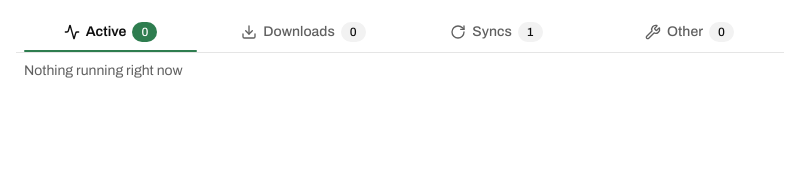
Test: TasksView › disables Run now while the sync is in progress
The width and height of the screenshot is (801, 172).
Click the tab "Syncs 1" at (496, 32), box [402,12,591,52]
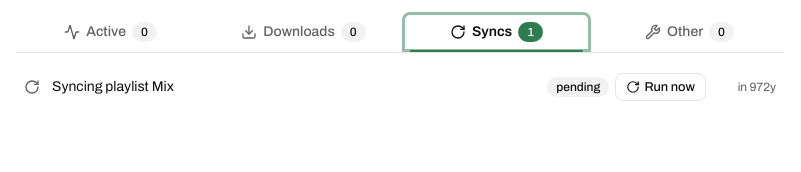
Click the button with aria-label "Run now: Syncing playlist Mix" at (661, 87), box [615,73,706,101]
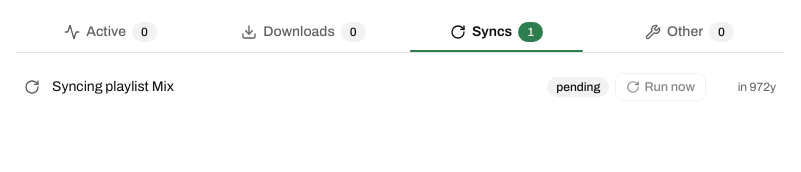
Expected: the button with aria-label "Run now: Syncing playlist Mix" is disabled, [615,73,706,101]
